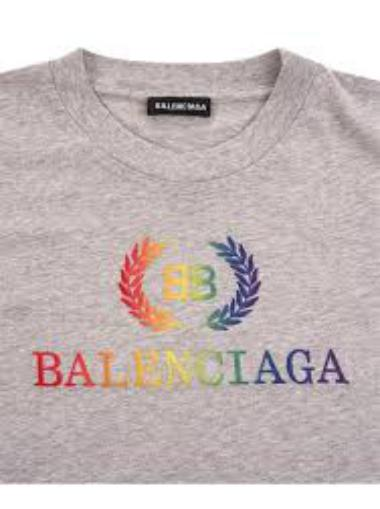BALENCIAGA: (34, 343, 351, 393)
